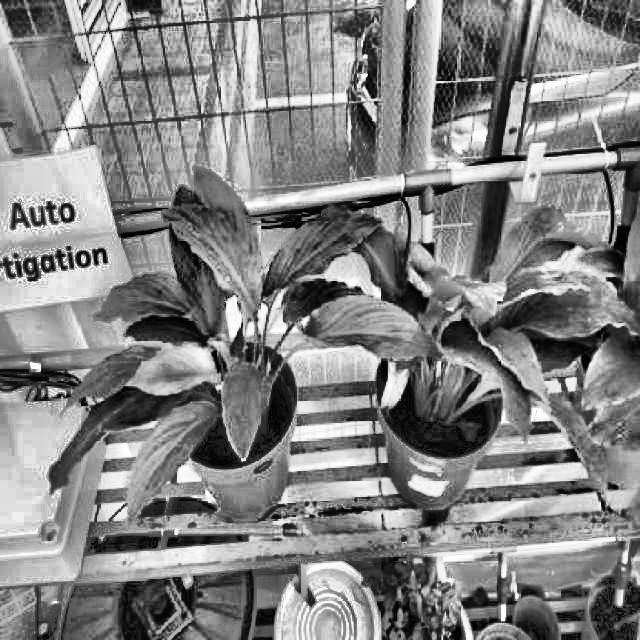plants: (48, 166, 438, 532), (343, 187, 639, 518)
